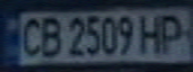0: (100, 14, 121, 56)
2: (63, 14, 87, 56)
5: (81, 12, 103, 56)
9: (115, 12, 139, 55)
B: (36, 14, 66, 58)
C: (15, 14, 48, 57)
H: (136, 11, 169, 55)
P: (154, 10, 190, 54)
